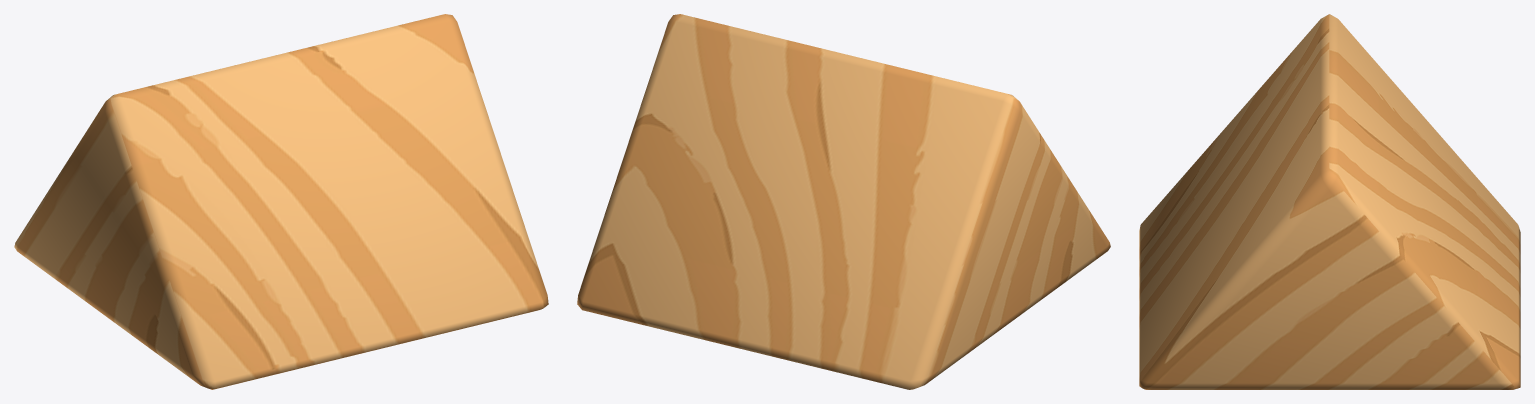
The model's file is Triangle.fbx.
The picture shows the model from 3 angles, left to right: view 1: azimuth 30°, elevation 25°; view 2: azimuth 150°, elevation 25°; view 3: azimuth 270°, elevation 25°; orthographic projection. The views are drawn at different scales.
Visible parts, largest first — view 1: Triangle; view 2: Triangle; view 3: Triangle.
Part boxes in pixels (bbox=[...]): Triangle: bbox=[14, 14, 548, 389]; Triangle: bbox=[577, 14, 1110, 389]; Triangle: bbox=[1139, 14, 1520, 389].
Bounding box in the file's own units: 17.55 × 10.79 × 16.93.
